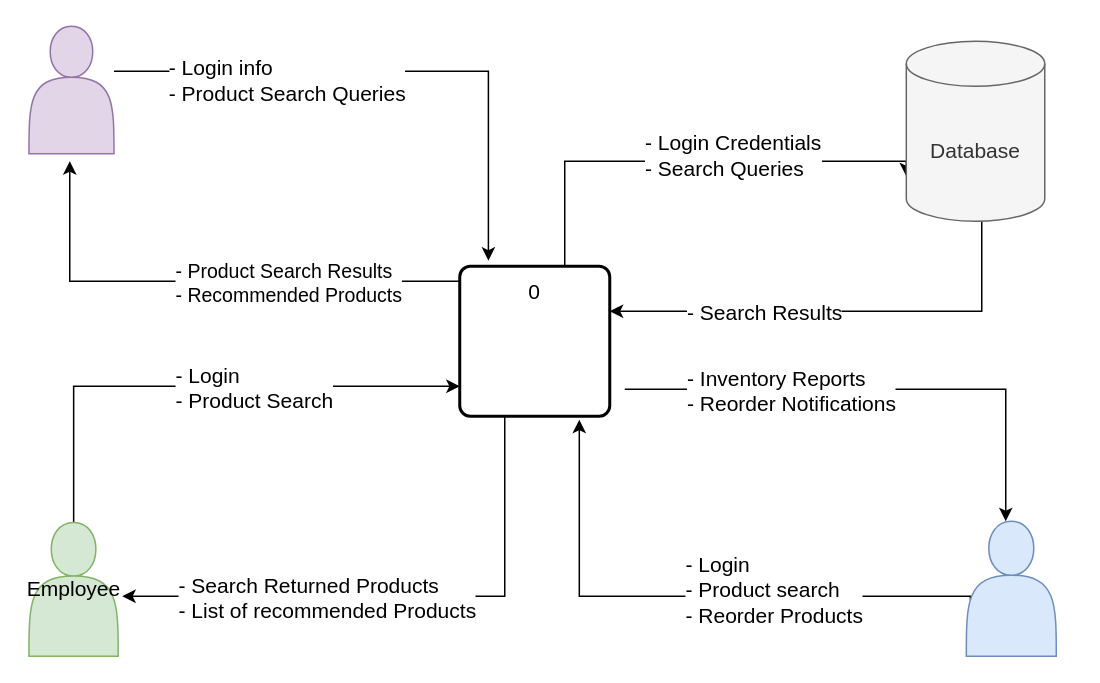
Some shapes in this 1100 by 683 pixel diagram are drawn without their labels. The centre of each missing label's shape, as x and y in pixels:
"Customer" belongs at [70,89].
"Management" belongs at [1010,588].
